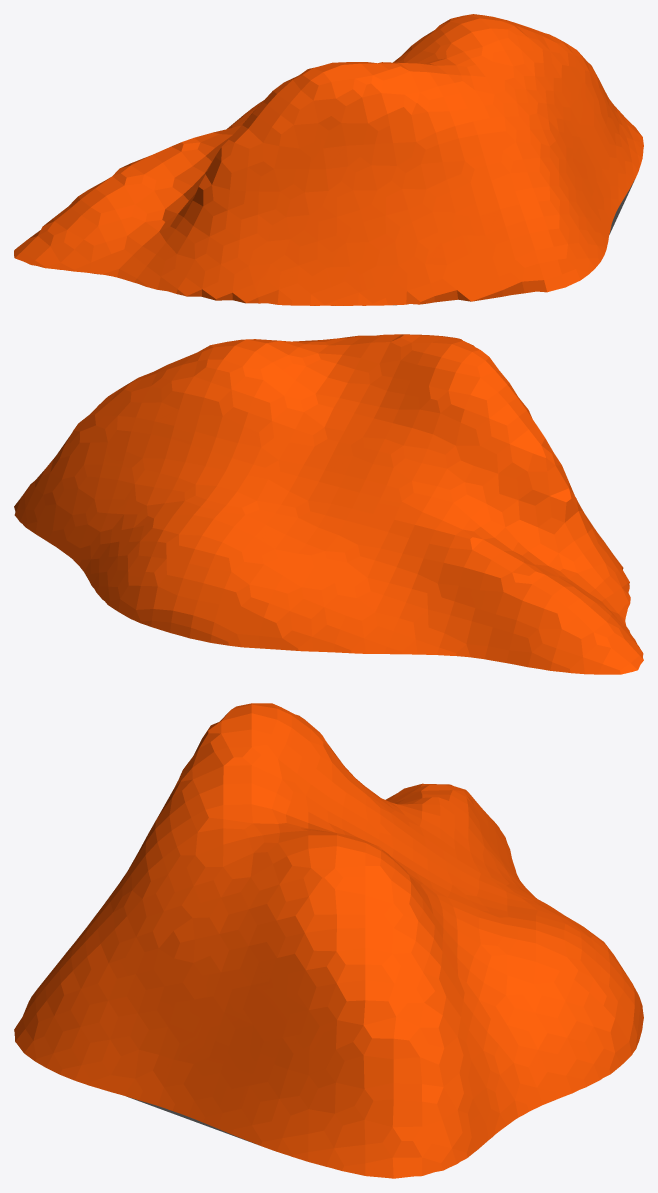
3 views of the same model, one above another, from view 1: azimuth 30°, elevation 25°; view 2: azimuth 150°, elevation 25°; view 3: azimuth 270°, elevation 25° (orthographic). The views are drawn at different scales.
Parts seen in each view (by area): view 1: 16.004; view 2: 16.004; view 3: 16.004.
Boxes of the visible parts, x1=… form: 16.004: x1=14, y1=14, x2=643, y2=305; 16.004: x1=14, y1=334, x2=643, y2=674; 16.004: x1=14, y1=703, x2=643, y2=1178.
Bounding box in the file's own units: 15.83 × 4.75 × 11.08.
